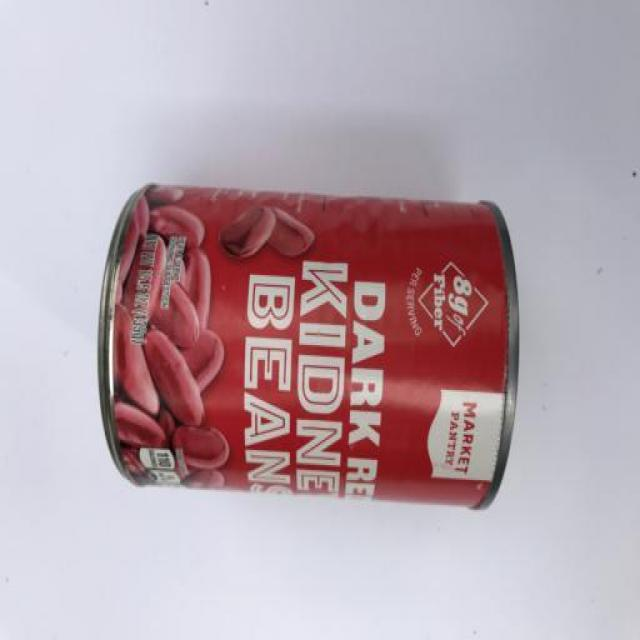metel: (93, 165, 528, 542)
